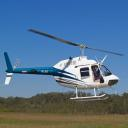helicopter: (1, 28, 126, 105)
